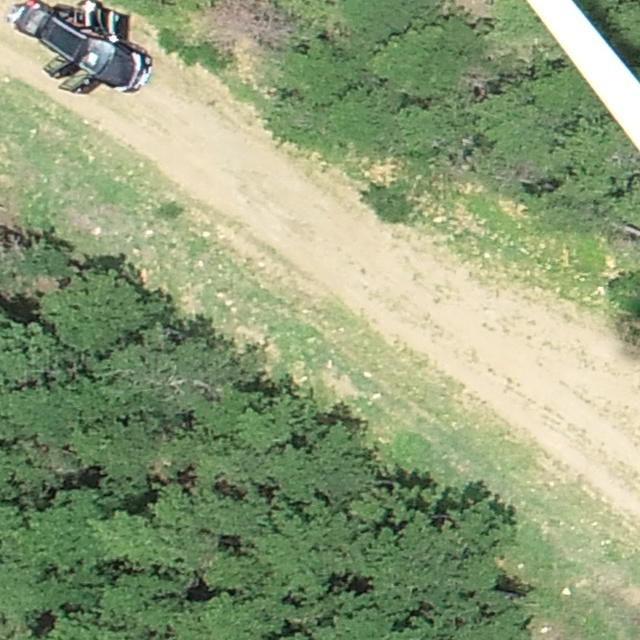unhealthy: (201, 1, 291, 52)
